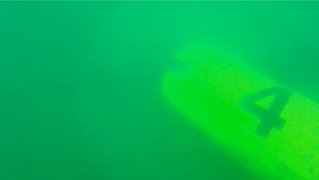4: (240, 84, 293, 138)
pipe: (161, 42, 319, 180)
